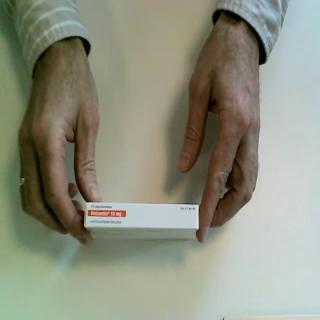dolcontin10mg: (83, 200, 203, 244)
